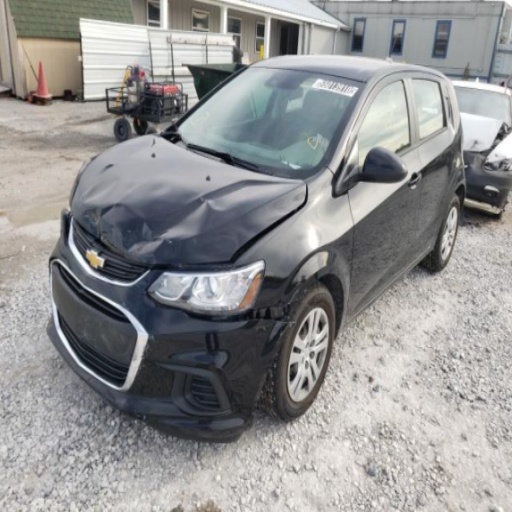dent: (159, 213, 253, 260), (122, 202, 198, 251), (256, 278, 292, 306), (86, 178, 115, 201), (101, 206, 128, 228), (83, 208, 99, 230)
scratch: (101, 225, 123, 248), (86, 210, 98, 227), (142, 225, 150, 240), (169, 240, 173, 245), (128, 230, 131, 234)
